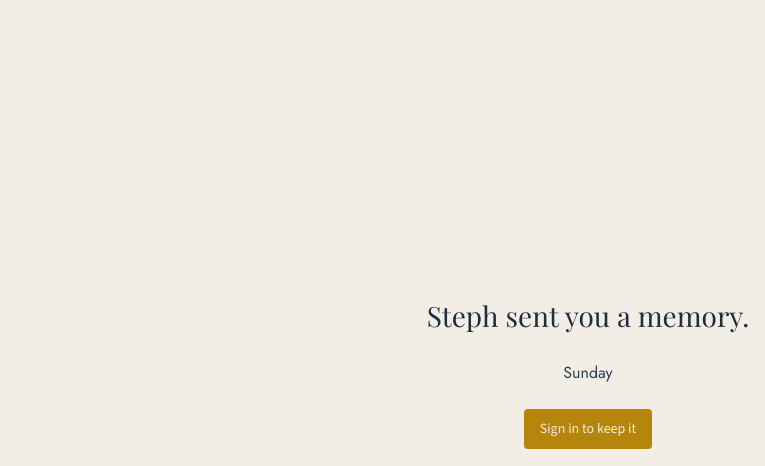
Test: receiving a shared memory › shows only the public preview and saves the pending token before sign-in
The image size is (765, 466).
Click the button "Sign in to keep it" at point(588, 429), box 524,409 -> 652,449
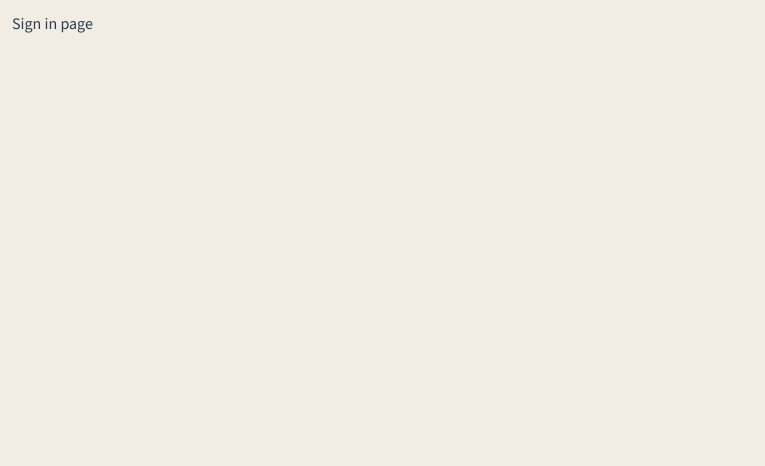
Check: the text "Sign in page" is shown, box 12,13 -> 93,34
